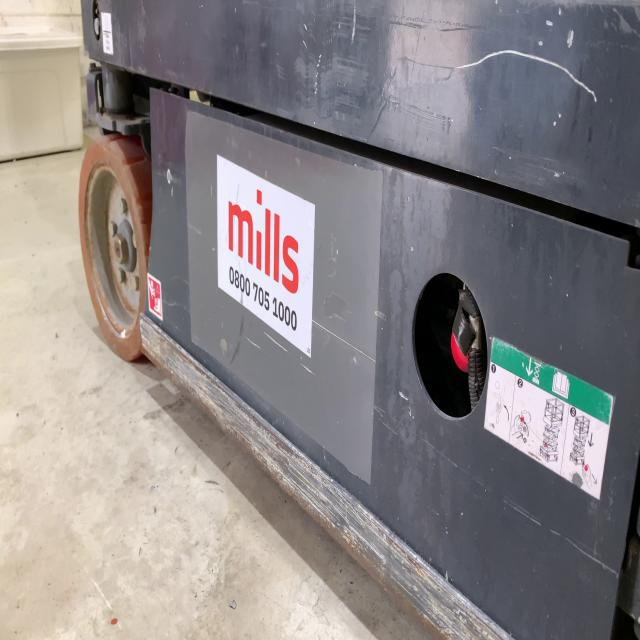Adesivos: (216, 151, 317, 362)
